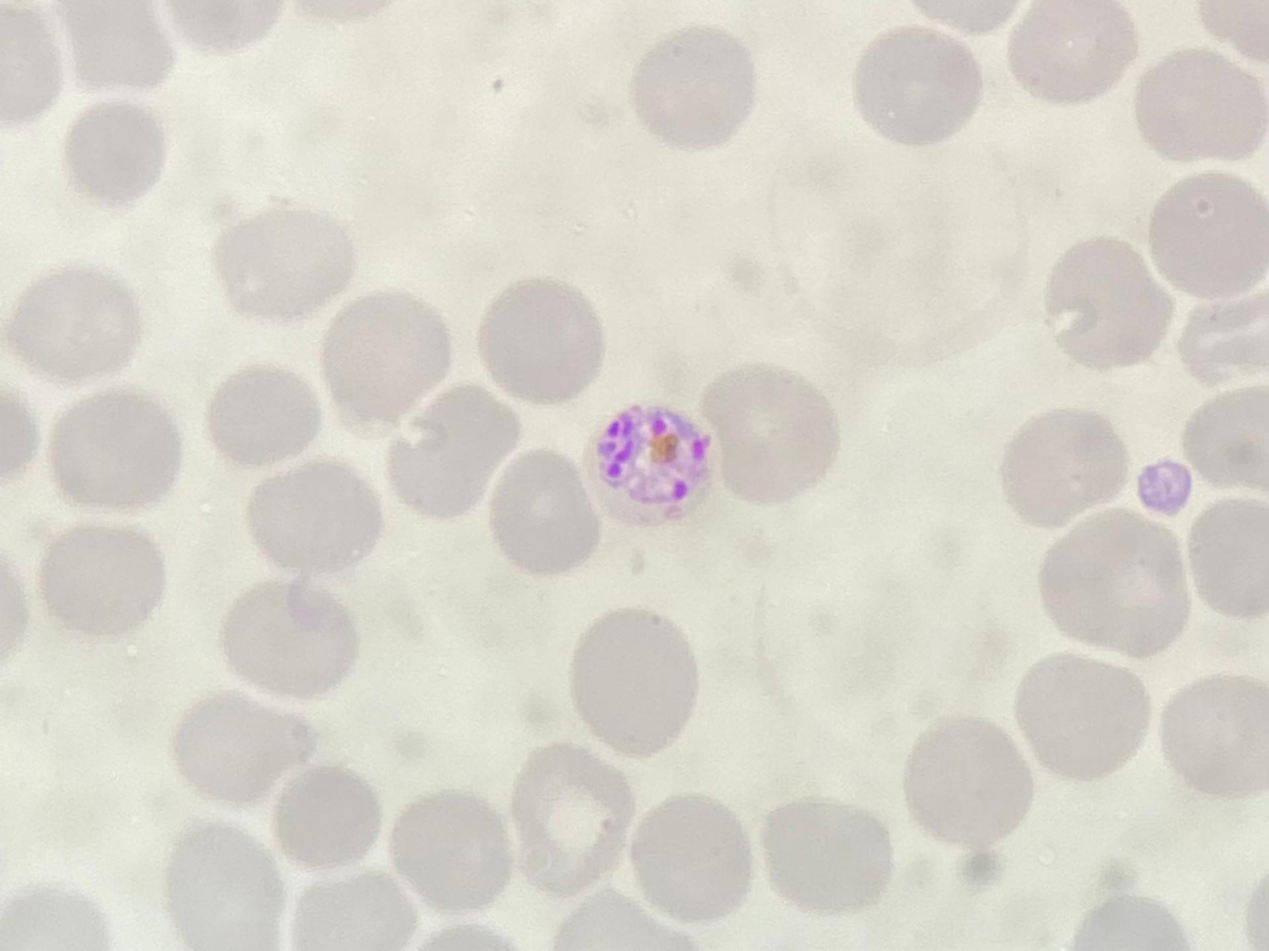Infected: (587, 402, 714, 525)
Uninfected: (1036, 510, 1185, 658), (508, 743, 638, 894), (697, 366, 837, 504), (568, 611, 697, 754), (320, 291, 454, 424), (388, 384, 520, 517), (1041, 235, 1170, 371), (217, 578, 360, 699), (900, 718, 1031, 849), (212, 206, 356, 322), (46, 387, 182, 508), (1016, 656, 1148, 780), (171, 690, 312, 805), (850, 26, 983, 147), (760, 796, 894, 916), (476, 279, 604, 404), (1145, 171, 1269, 300), (247, 457, 386, 572), (7, 265, 141, 384), (626, 794, 751, 921), (628, 25, 750, 152), (37, 522, 167, 641), (387, 791, 516, 910), (999, 408, 1127, 527), (1134, 46, 1264, 163), (164, 825, 286, 946), (486, 452, 599, 575), (1161, 671, 1268, 796), (267, 763, 387, 874), (1009, 1, 1136, 104), (206, 365, 321, 469), (50, 0, 176, 91), (61, 99, 169, 204), (1188, 498, 1269, 618), (290, 871, 413, 948), (1181, 387, 1267, 492), (1176, 284, 1264, 384)
